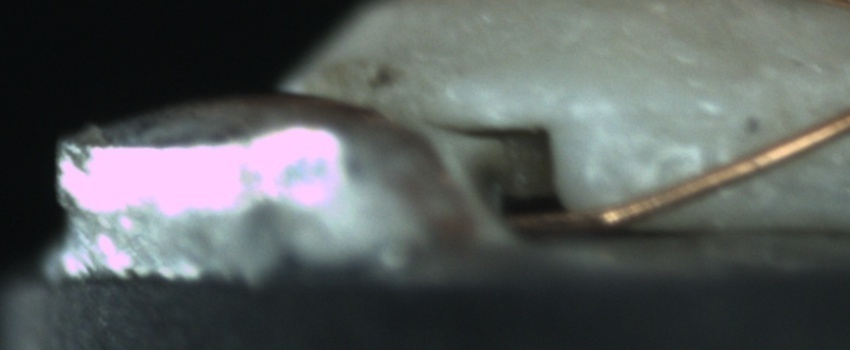DL: (590, 92, 735, 161)
